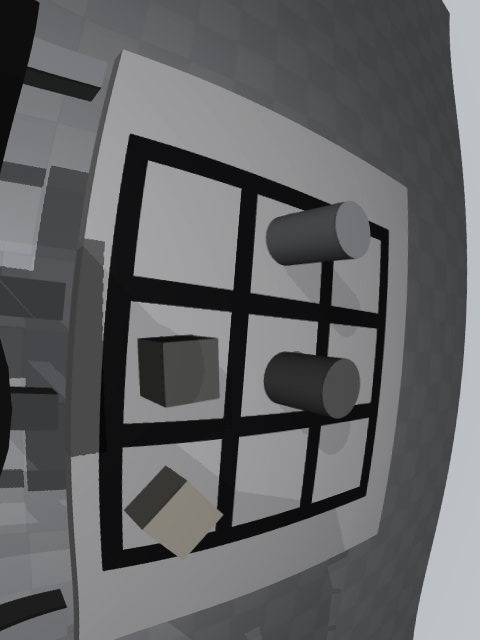can: (266, 201, 371, 266)
cube: (137, 335, 219, 407)
cylinder: (264, 351, 360, 419)
foam: (123, 465, 223, 560)
